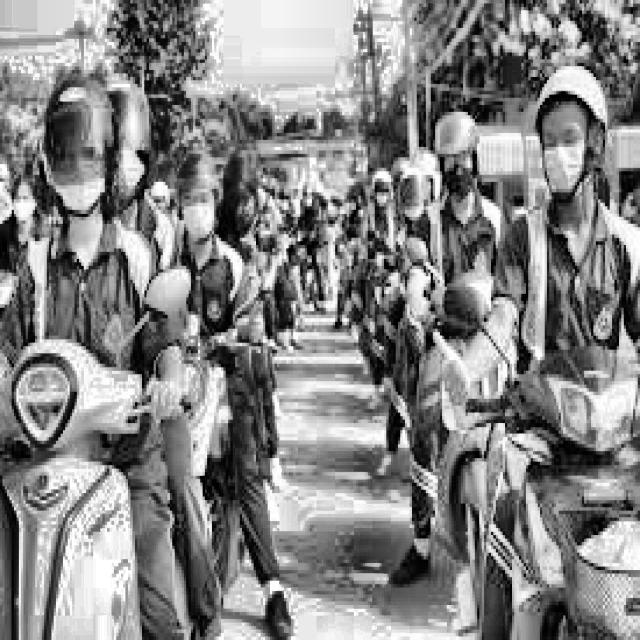Helmet: (519, 52, 615, 228), (38, 63, 118, 224), (428, 104, 487, 207), (168, 152, 224, 256)
